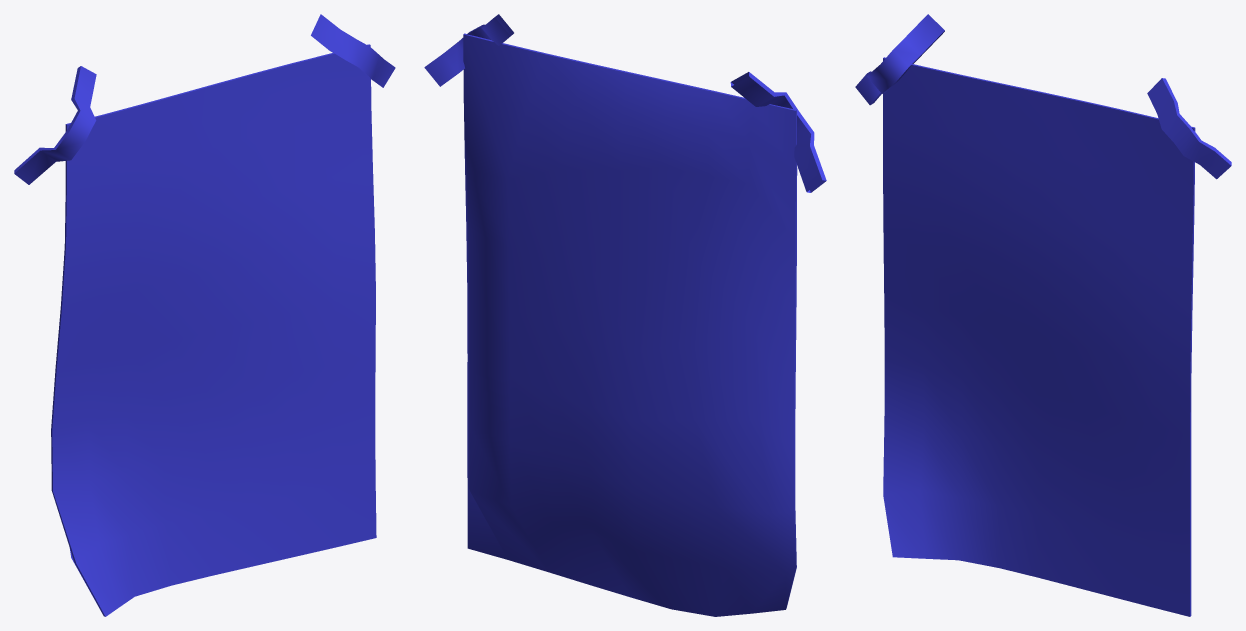
Rendered from Draw.fbx.
3 views of the same model, side by side, from view 1: azimuth 30°, elevation 25°; view 2: azimuth 150°, elevation 25°; view 3: azimuth 330°, elevation 25° (orthographic). The views are drawn at different scales.
Visible parts, largest first — view 1: Drawing_2; view 2: Drawing_2; view 3: Drawing_2.
Part boxes in pixels (x1,y1,x2,y2): Drawing_2: (14,14,395,616); Drawing_2: (424,14,826,616); Drawing_2: (855,14,1231,616).
Size of the model in its own units: 91.57 by 123 by 15.66.
